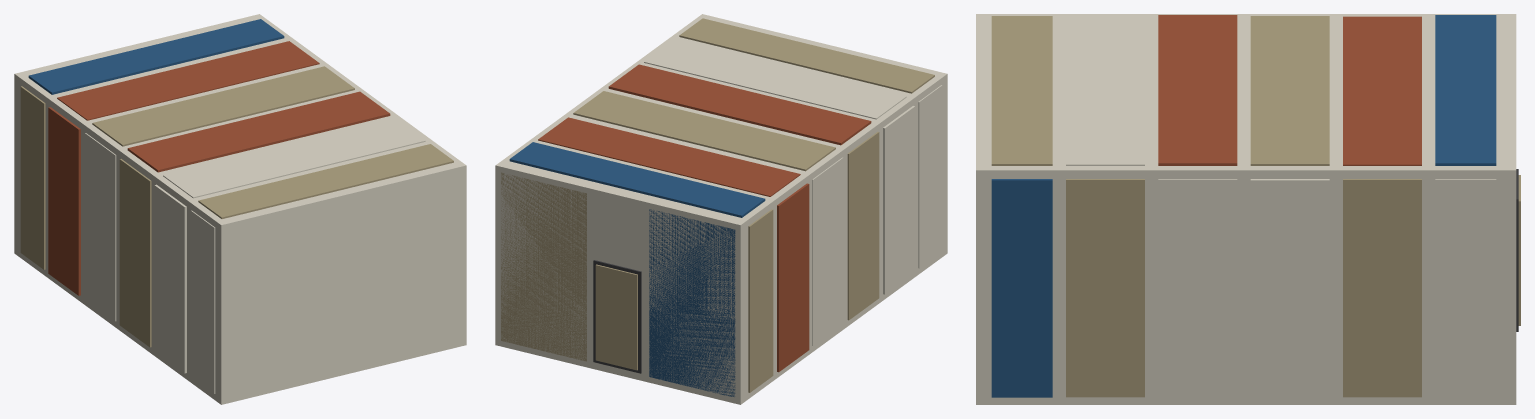
Rendered from hold100_shell.obj.
3 renders of one model, left to right at view 1: azimuth 30°, elevation 25°; view 2: azimuth 150°, elevation 25°; view 3: azimuth 270°, elevation 25°, orthographic. The views are drawn at different scales.
Parts seen in each view (by area): view 1: hold100_shell; view 2: hold100_shell; view 3: hold100_shell.
Boxes of the visible parts, bbox=[...] form: hold100_shell: bbox=[14, 14, 466, 404]; hold100_shell: bbox=[495, 14, 947, 404]; hold100_shell: bbox=[976, 14, 1520, 404].
Bounding box in the file's own units: 5.04 × 3.51 × 7.3.
